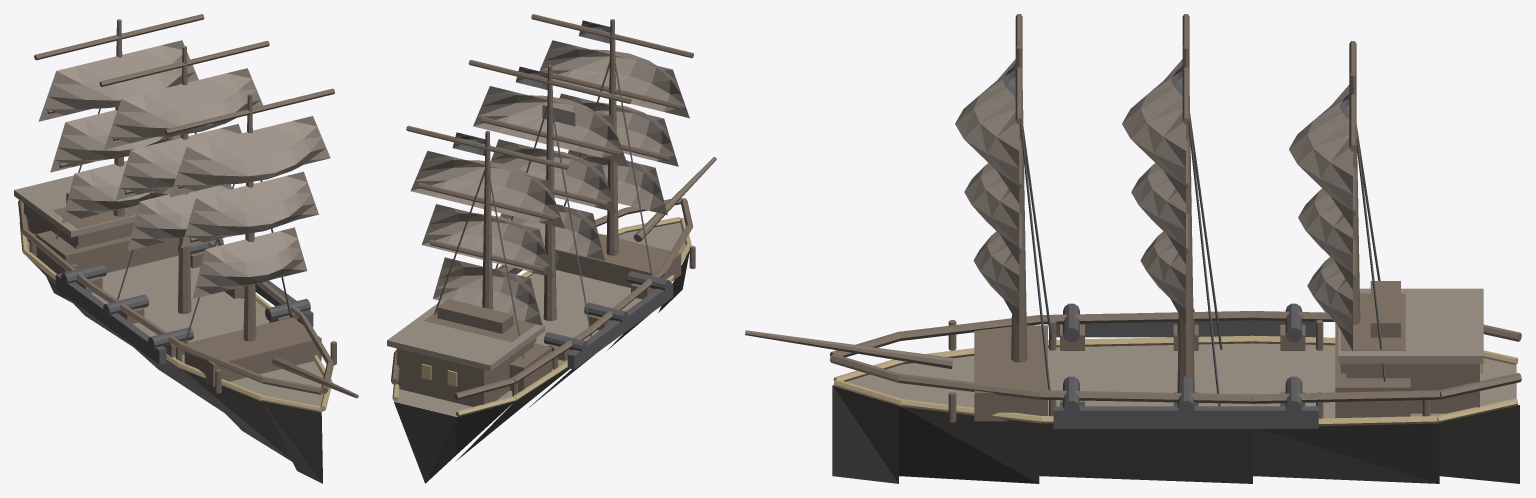
File: npc_heavy_01.glb
3 renders of one model, left to right at view 1: azimuth 30°, elevation 25°; view 2: azimuth 150°, elevation 25°; view 3: azimuth 270°, elevation 25°, orthographic. The views are drawn at different scales.
Parts seen in each view (by area): view 1: M297_npc_heavy_01_Complete_Ship; view 2: M297_npc_heavy_01_Complete_Ship; view 3: M297_npc_heavy_01_Complete_Ship.
Part boxes in pixels (bbox=[...]): M297_npc_heavy_01_Complete_Ship: bbox=[14, 14, 358, 483]; M297_npc_heavy_01_Complete_Ship: bbox=[387, 14, 716, 483]; M297_npc_heavy_01_Complete_Ship: bbox=[745, 14, 1521, 483].
Size of the model in its own units: 3.08 by 6 by 9.68.
